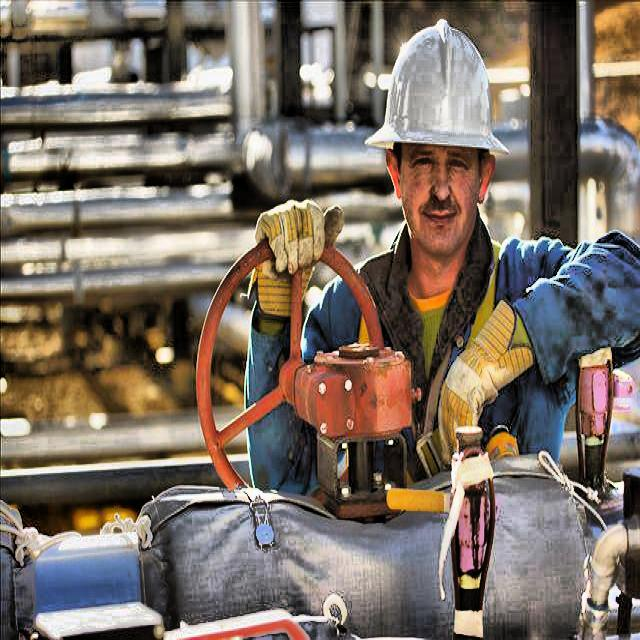helmet: (357, 13, 516, 276)
